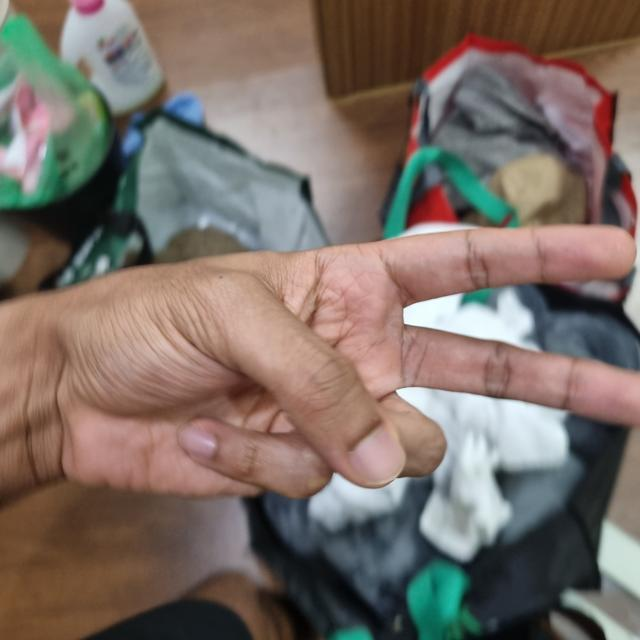Scissors: (8, 225, 636, 506)
